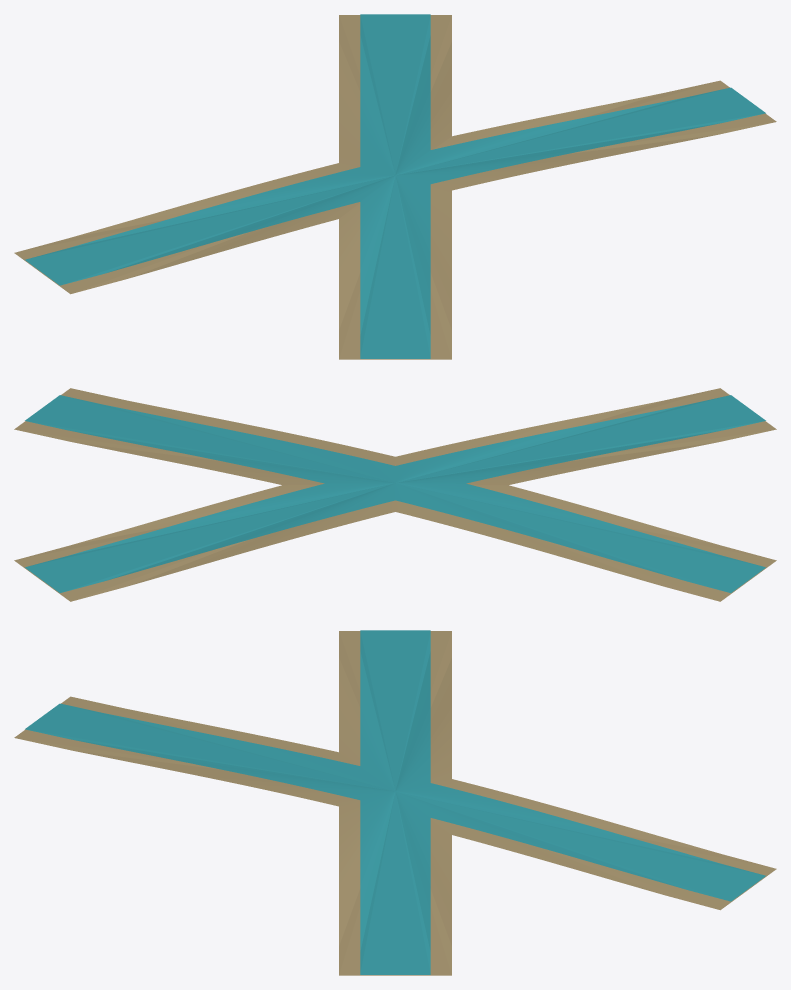
File: RIVER_27.fbx
3 views of the same model, one above another, from view 1: azimuth 30°, elevation 25°; view 2: azimuth 150°, elevation 25°; view 3: azimuth 270°, elevation 25° (orthographic).
Visible parts, largest first — view 1: Channel_surface.021, Channel_surface.020; view 2: Channel_surface.021, Channel_surface.020; view 3: Channel_surface.021, Channel_surface.020.
Boxes of the visible parts, left/top/right/bottom form: Channel_surface.021: left=25, top=14, right=765, bottom=358; Channel_surface.020: left=14, top=15, right=776, bottom=359; Channel_surface.021: left=25, top=395, right=765, bottom=592; Channel_surface.020: left=14, top=388, right=776, bottom=601; Channel_surface.021: left=25, top=630, right=765, bottom=974; Channel_surface.020: left=14, top=631, right=776, bottom=975.
Size of the model in its own units: 173 by 2.8 by 162.
